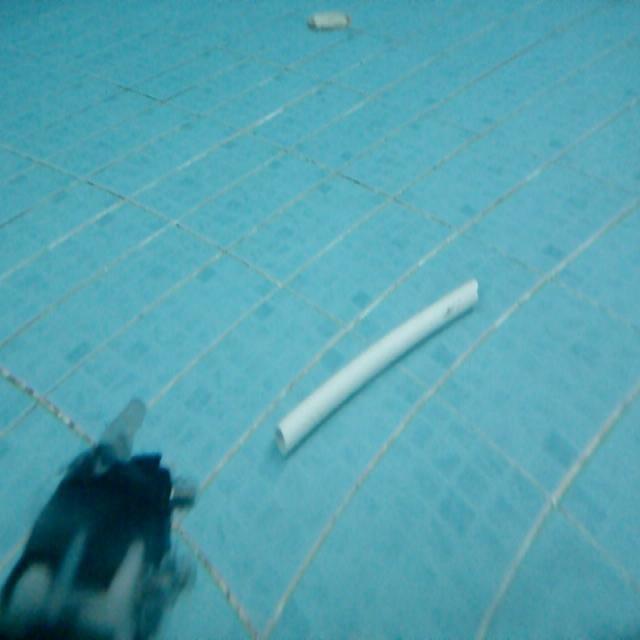Cube: (270, 271, 481, 458)
